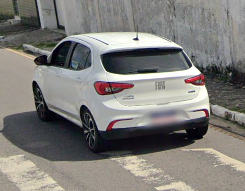car: (29, 31, 212, 156)
